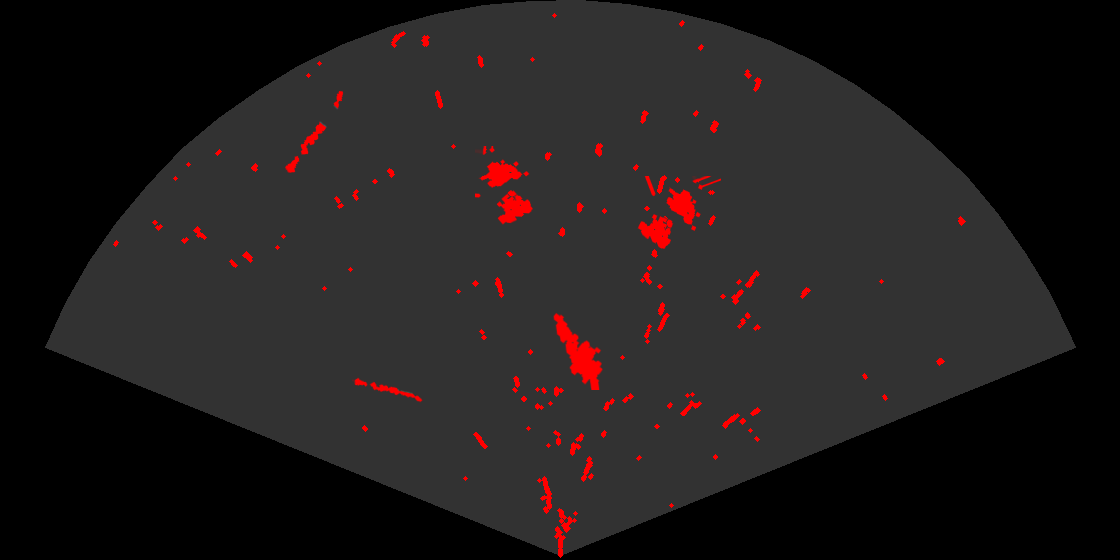cage: (636, 176, 721, 251), (475, 146, 534, 226)
chain: (283, 89, 345, 174), (352, 376, 424, 404)
frogman: (552, 311, 604, 390)
